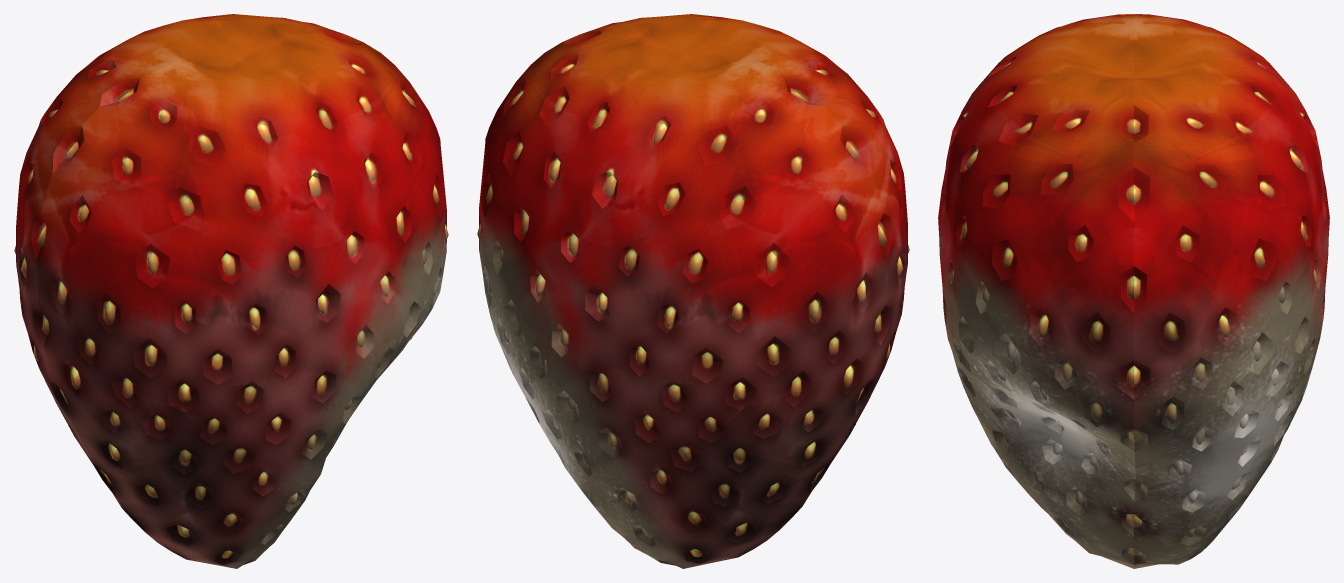
Rendered from mFraiseP1Outline.FBX.
The picture shows the model from 3 angles, left to right: view 1: azimuth 30°, elevation 25°; view 2: azimuth 150°, elevation 25°; view 3: azimuth 270°, elevation 25°; orthographic projection.
Visible parts, largest first — view 1: Fraise_Negatif_01_OUTLINE; view 2: Fraise_Negatif_01_OUTLINE; view 3: Fraise_Negatif_01_OUTLINE.
Boxes of the visible parts, left/top/right/bottom form: Fraise_Negatif_01_OUTLINE: left=14, top=14, right=448, bottom=568; Fraise_Negatif_01_OUTLINE: left=477, top=14, right=909, bottom=568; Fraise_Negatif_01_OUTLINE: left=938, top=14, right=1329, bottom=568.
Size of the model in its own units: 1.53 by 1.92 by 1.32.
